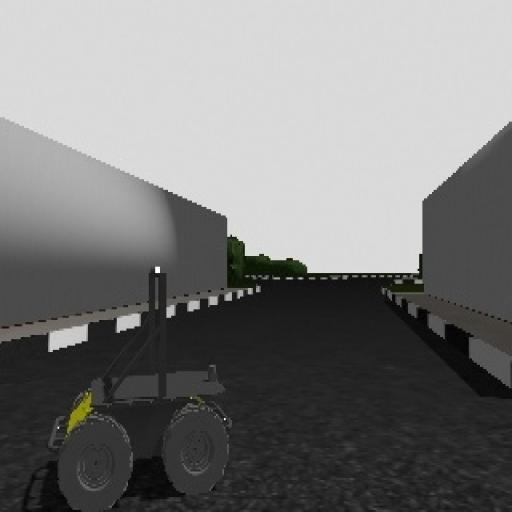huskya200: (33, 217, 236, 512)
